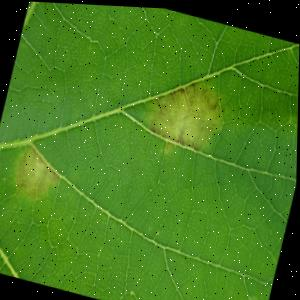Folha: (0, 0, 300, 300)
Fungo: (138, 63, 232, 156), (7, 140, 66, 208)
